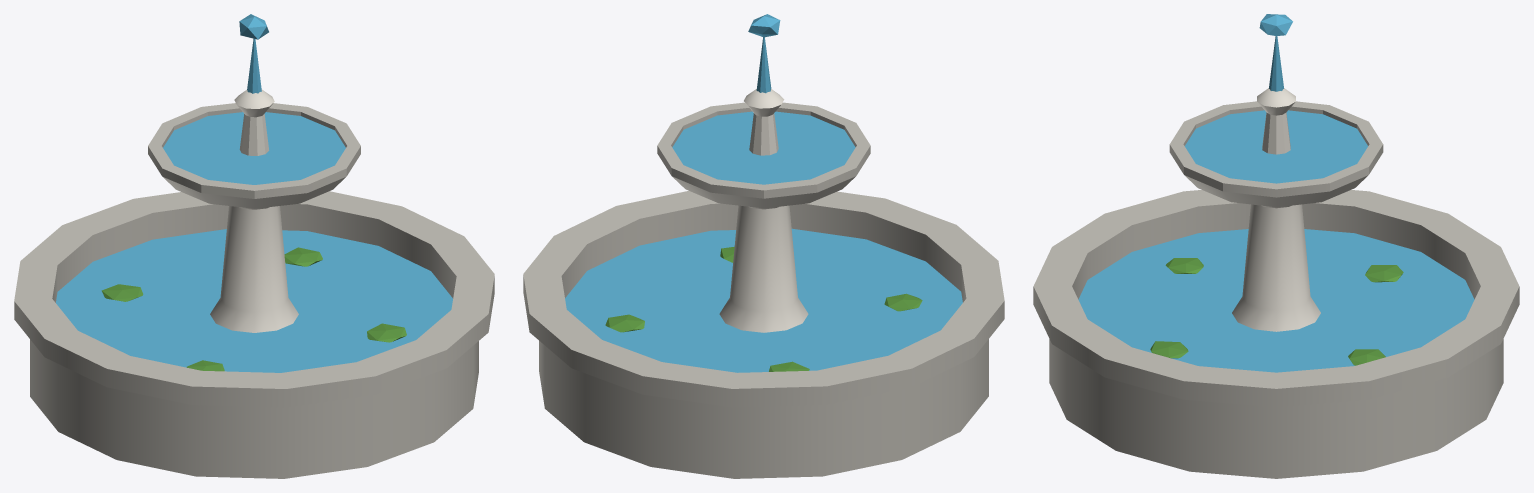
File: chafariz.glb
3 views of the same model, side by side, from view 1: azimuth 30°, elevation 25°; view 2: azimuth 150°, elevation 25°; view 3: azimuth 270°, elevation 25° (orthographic).
Parts seen in each view (by area): view 1: chafariz; view 2: chafariz; view 3: chafariz.
Part boxes in pixels (box(x1,y1,x2,y2)): chafariz: box(14, 14, 494, 478); chafariz: box(523, 14, 1004, 478); chafariz: box(1033, 14, 1519, 478).
Bounding box in the file's own units: 2.14 × 1.79 × 2.14.
